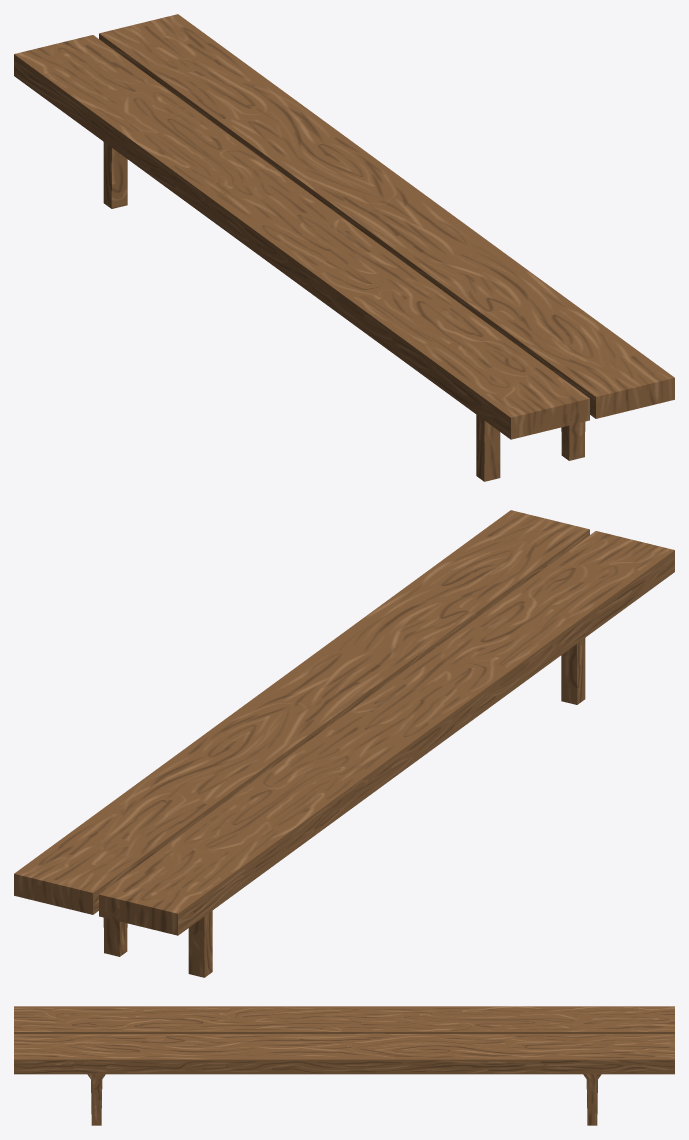
Rendered from Bench.fbx.
3 renders of one model, top to bottom at view 1: azimuth 30°, elevation 25°; view 2: azimuth 150°, elevation 25°; view 3: azimuth 270°, elevation 25°, orthographic. The views are drawn at different scales.
Visible parts, largest first — view 1: Cube.001; view 2: Cube.001; view 3: Cube.001.
Part boxes in pixels (x1,y1,x2,y2): Cube.001: [14, 14, 674, 481]; Cube.001: [14, 510, 674, 977]; Cube.001: [14, 1006, 674, 1125].
Size of the model in its own units: 104 by 69.05 by 544.
